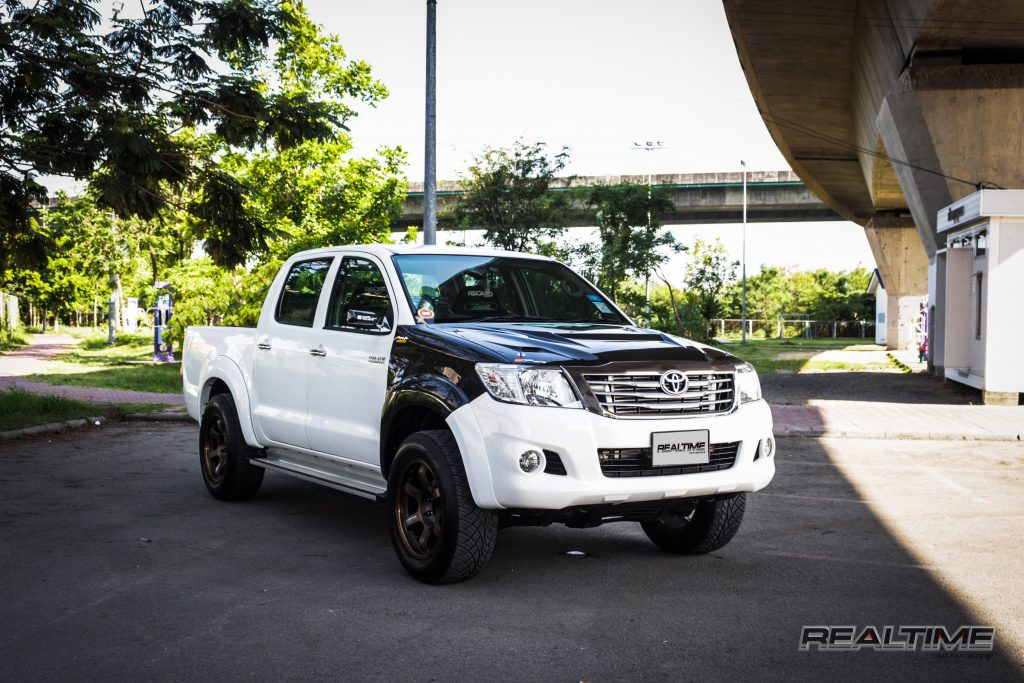pickup: (178, 242, 779, 587)
